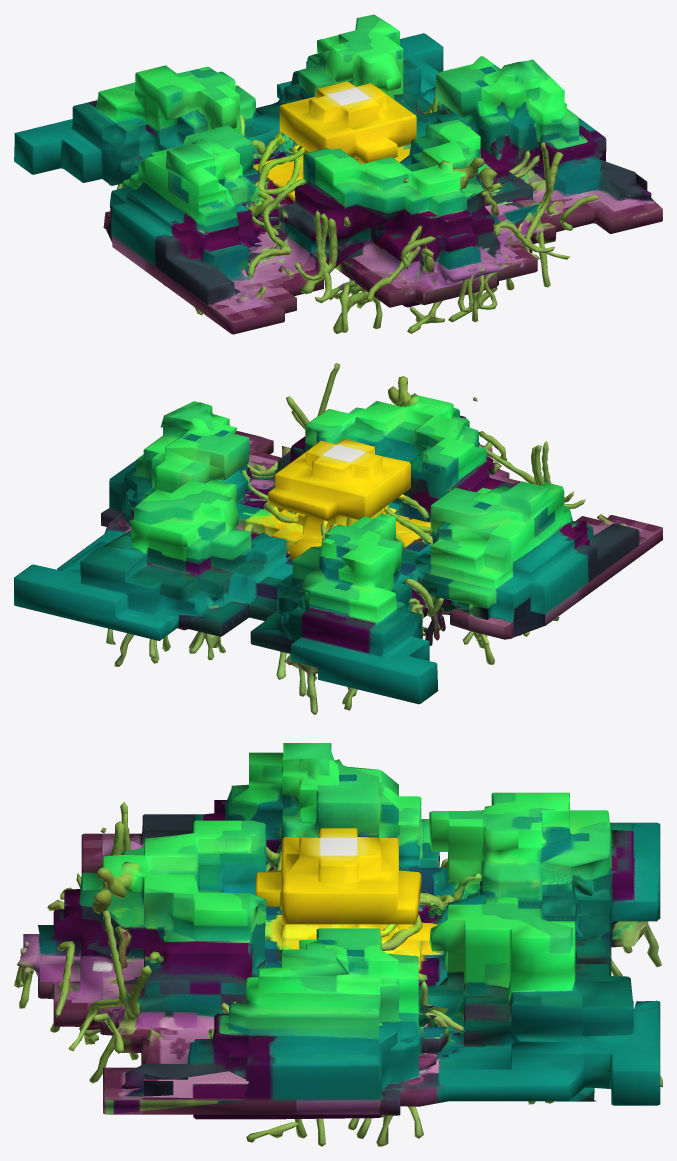
The model's file is weeds.glb.
3 renders of one model, top to bottom at view 1: azimuth 30°, elevation 25°; view 2: azimuth 150°, elevation 25°; view 3: azimuth 270°, elevation 25°, orthographic. The views are drawn at different scales.
Size of the model in its own units: 1.87 by 0.6693 by 1.91.
Materials: 1 (1 with a texture image).
